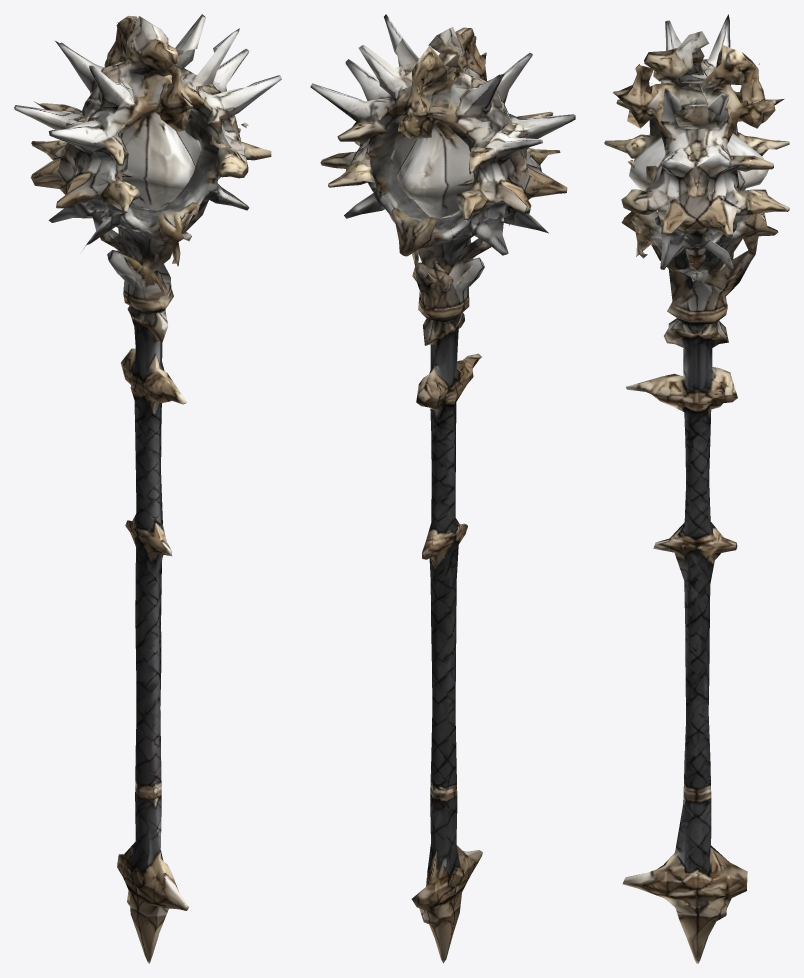
The picture shows the model from 3 angles, left to right: view 1: azimuth 30°, elevation 25°; view 2: azimuth 150°, elevation 25°; view 3: azimuth 270°, elevation 25°; orthographic projection. The views are drawn at different scales.
Parts seen in each view (by area): view 1: tripo_node_fad1e78d-9f66-41c1-80de-be1f3d2b74dc; view 2: tripo_node_fad1e78d-9f66-41c1-80de-be1f3d2b74dc; view 3: tripo_node_fad1e78d-9f66-41c1-80de-be1f3d2b74dc.
Boxes of the visible parts, bbox=[...] form: tripo_node_fad1e78d-9f66-41c1-80de-be1f3d2b74dc: bbox=[14, 14, 281, 963]; tripo_node_fad1e78d-9f66-41c1-80de-be1f3d2b74dc: bbox=[310, 14, 575, 963]; tripo_node_fad1e78d-9f66-41c1-80de-be1f3d2b74dc: bbox=[604, 14, 789, 963].
Size of the model in its own units: 0.2448 by 0.9454 by 0.1711.
Materials: 1 (1 with a texture image).
